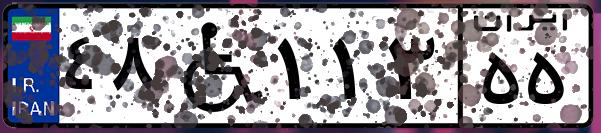1: (270, 28, 330, 110), (330, 28, 385, 110)
3: (385, 28, 445, 110)
4: (57, 26, 110, 100)
5: (475, 38, 525, 113), (525, 38, 570, 115)
8: (110, 28, 158, 98)
ژ (معلولین و جانبازان): (158, 12, 270, 120)
